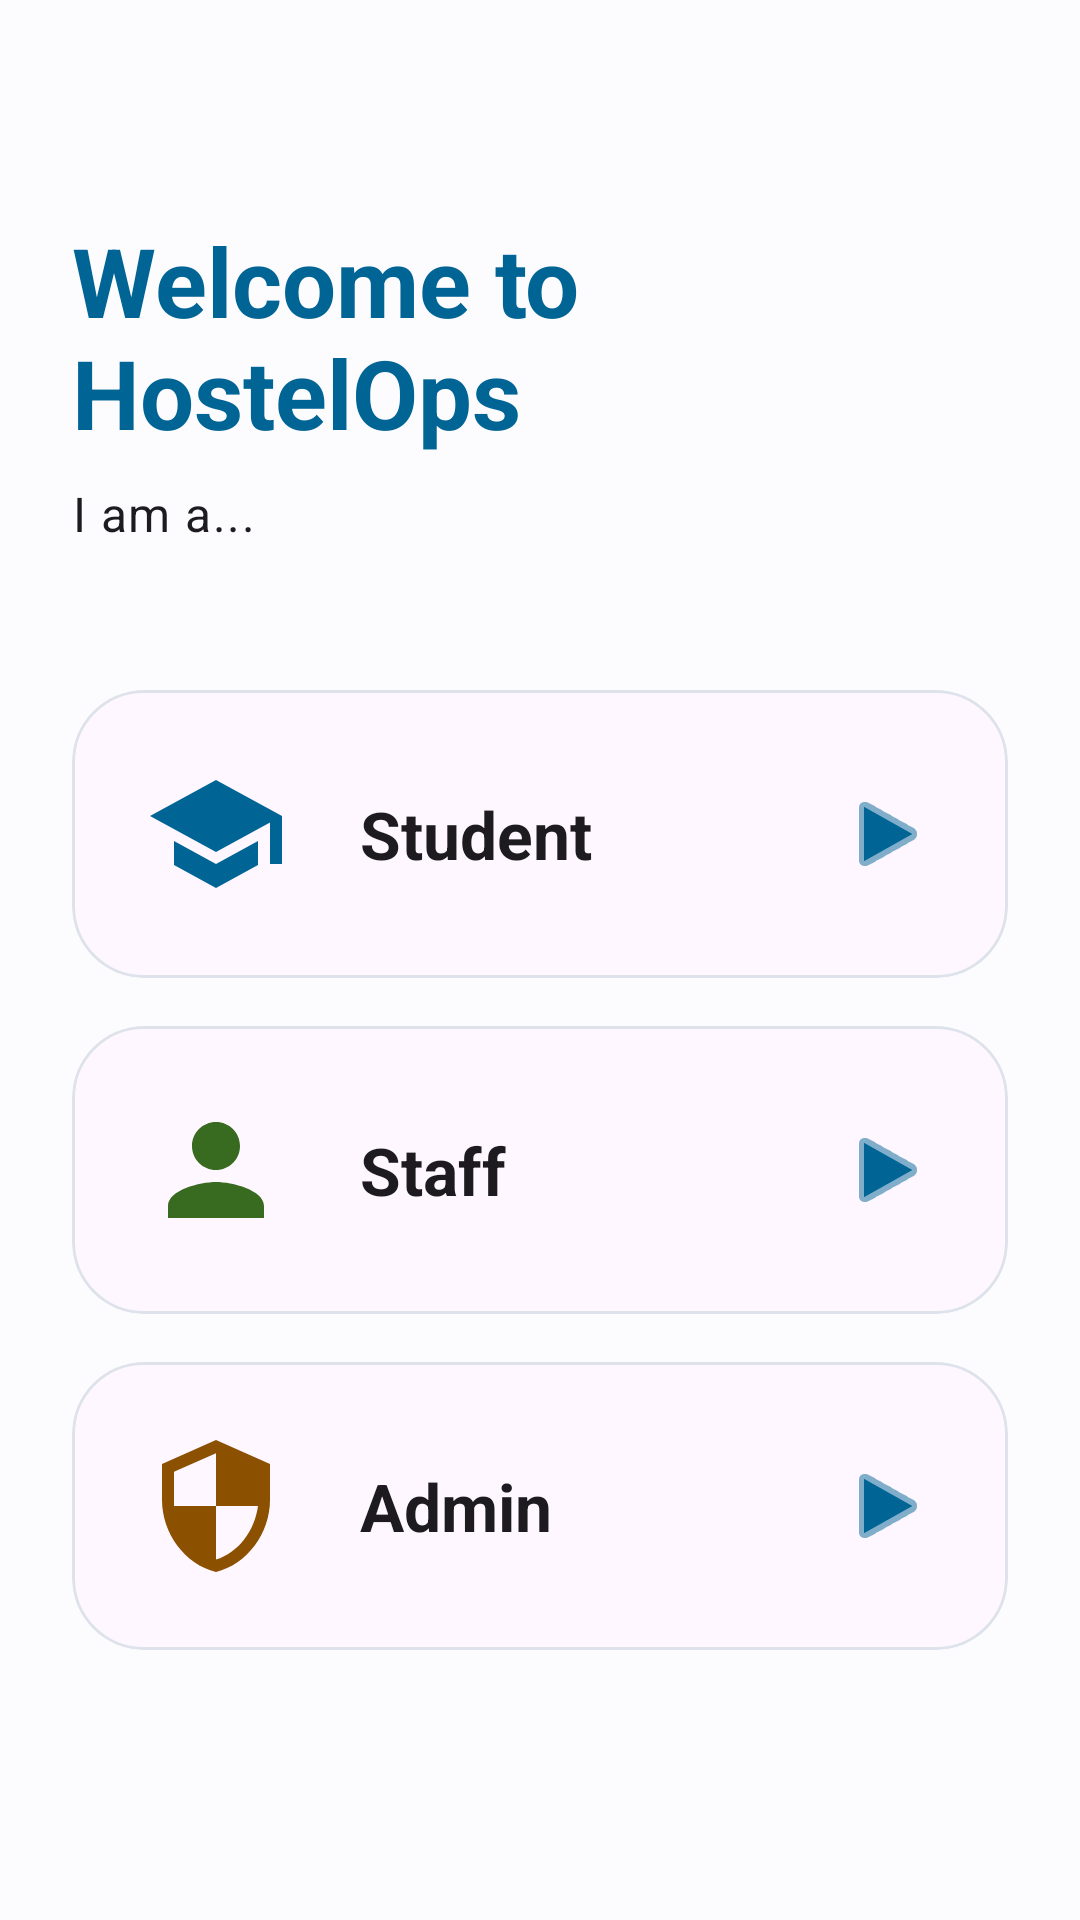

Named icons in this screenshot (1080x1920) and their centers, (x,y):
play: (888,834), (888,1170), (888,1506)
